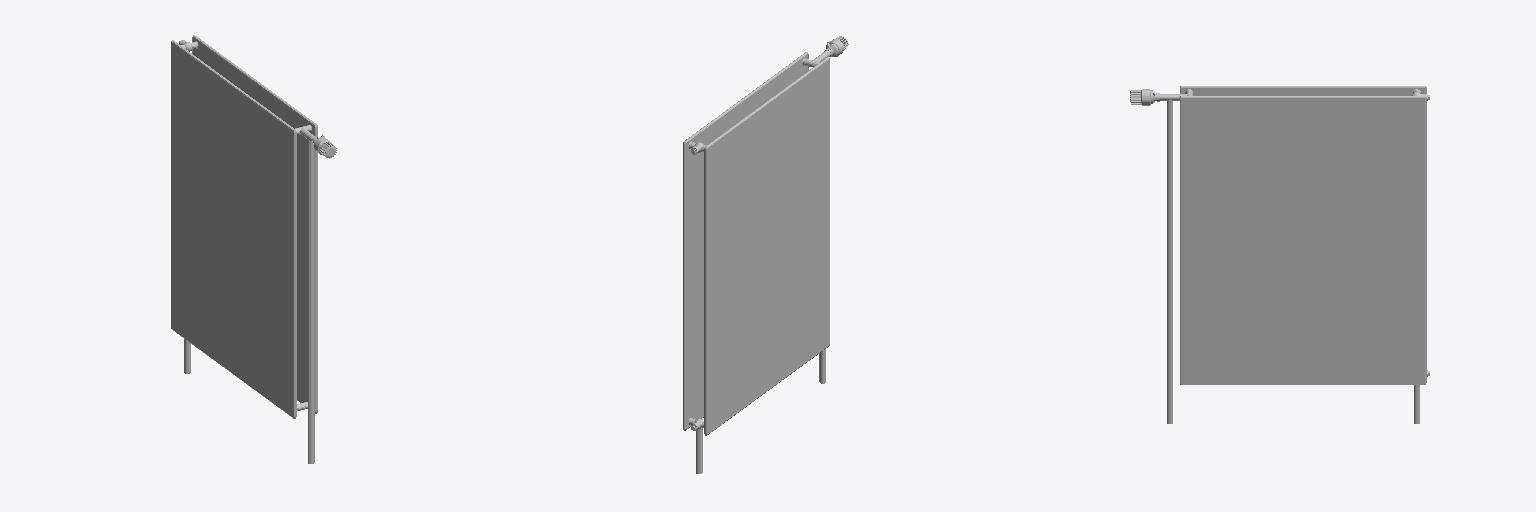
File: Heater.obj
The picture shows the model from 3 angles: view 1: azimuth 30°, elevation 25°; view 2: azimuth 150°, elevation 25°; view 3: azimuth 270°, elevation 25°; orthographic projection.
Parts seen in each view (by area): view 1: Heater_Low; view 2: Heater_Low; view 3: Heater_Low.
Boxes of the visible parts, x1=… form: Heater_Low: x1=171, y1=35, x2=317, y2=463; Heater_Low: x1=683, y1=50, x2=830, y2=473; Heater_Low: x1=1160, y1=86, x2=1429, y2=423.
Size of the model in its own units: 0.0801 by 1.05 by 0.8566.